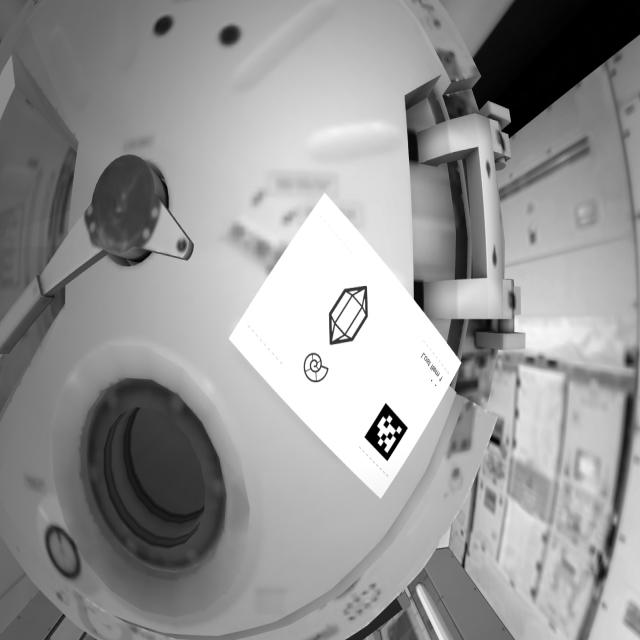crystal: (324, 280, 373, 353)
fossil: (300, 348, 332, 387)
